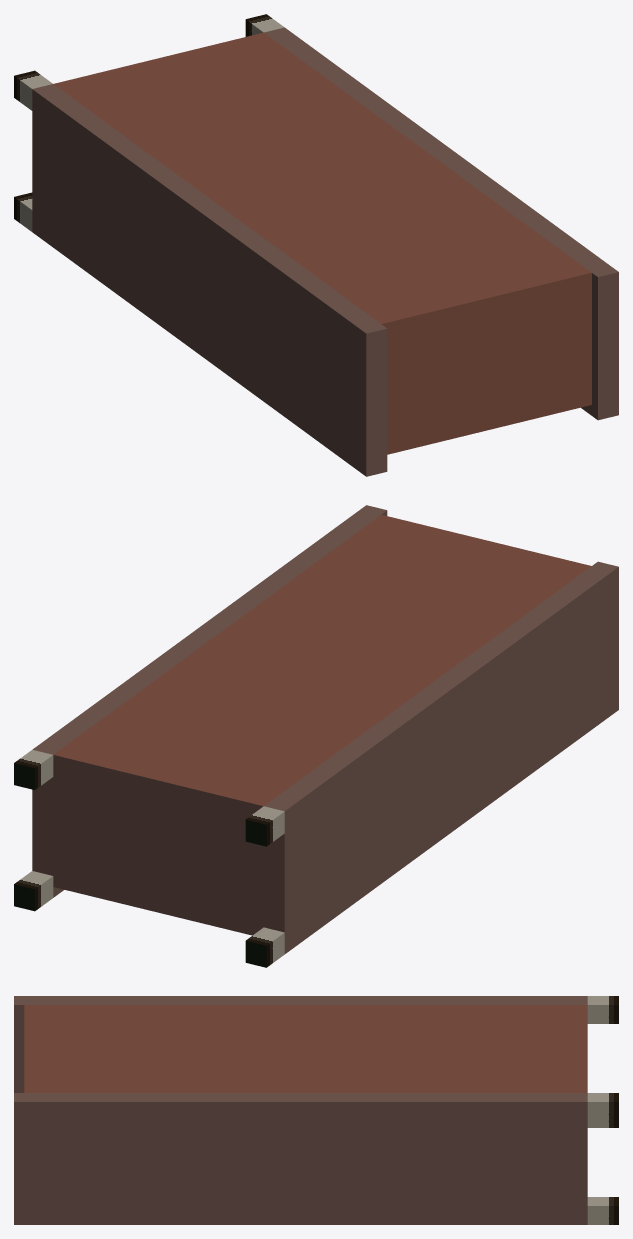
File: prop_cabinet_03.glb
3 views of the same model, one above another, from view 1: azimuth 30°, elevation 25°; view 2: azimuth 150°, elevation 25°; view 3: azimuth 270°, elevation 25° (orthographic). The views are drawn at different scales.
Parts seen in each view (by area): view 1: prop_cabinet_03; view 2: prop_cabinet_03; view 3: prop_cabinet_03.
Part boxes in pixels (<box>): prop_cabinet_03: <box>14,14,618,476</box>; prop_cabinet_03: <box>14,505,618,967</box>; prop_cabinet_03: <box>14,996,618,1224</box>.
Bounding box in the file's own units: 48 × 26 × 116.
Materials: 8 (8 with a texture image).
